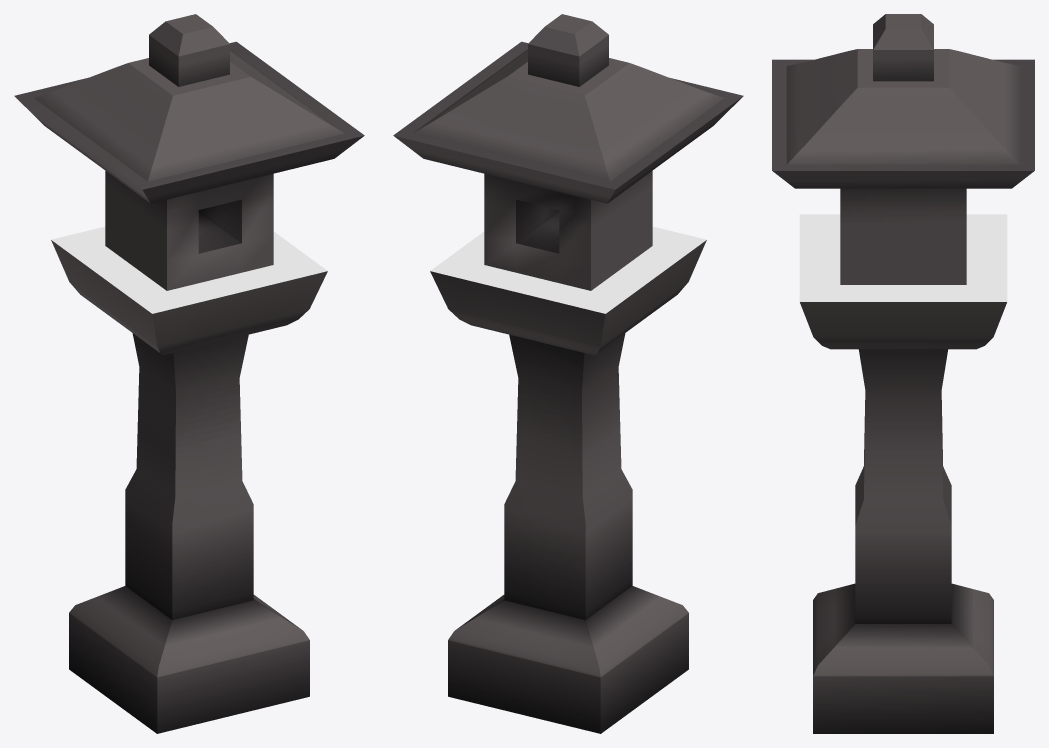
Rendered from stone_lantern.fbx.
The picture shows the model from 3 angles, left to right: view 1: azimuth 30°, elevation 25°; view 2: azimuth 150°, elevation 25°; view 3: azimuth 270°, elevation 25°; orthographic projection. The views are drawn at different scales.
Visible parts, largest first — view 1: Cube; view 2: Cube; view 3: Cube.
Boxes of the visible parts, x1,y1,x2,y2 form: Cube: (14,14,364,733); Cube: (393,14,743,733); Cube: (772,14,1034,733).
Bounding box in the file's own units: 108 × 305 × 108.
